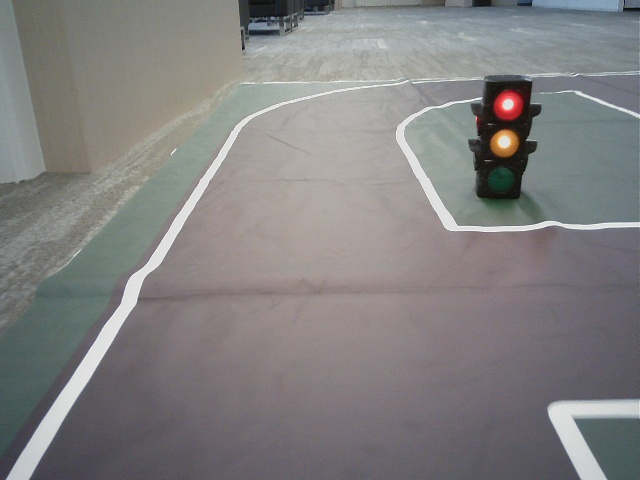red: (484, 78, 522, 196)
